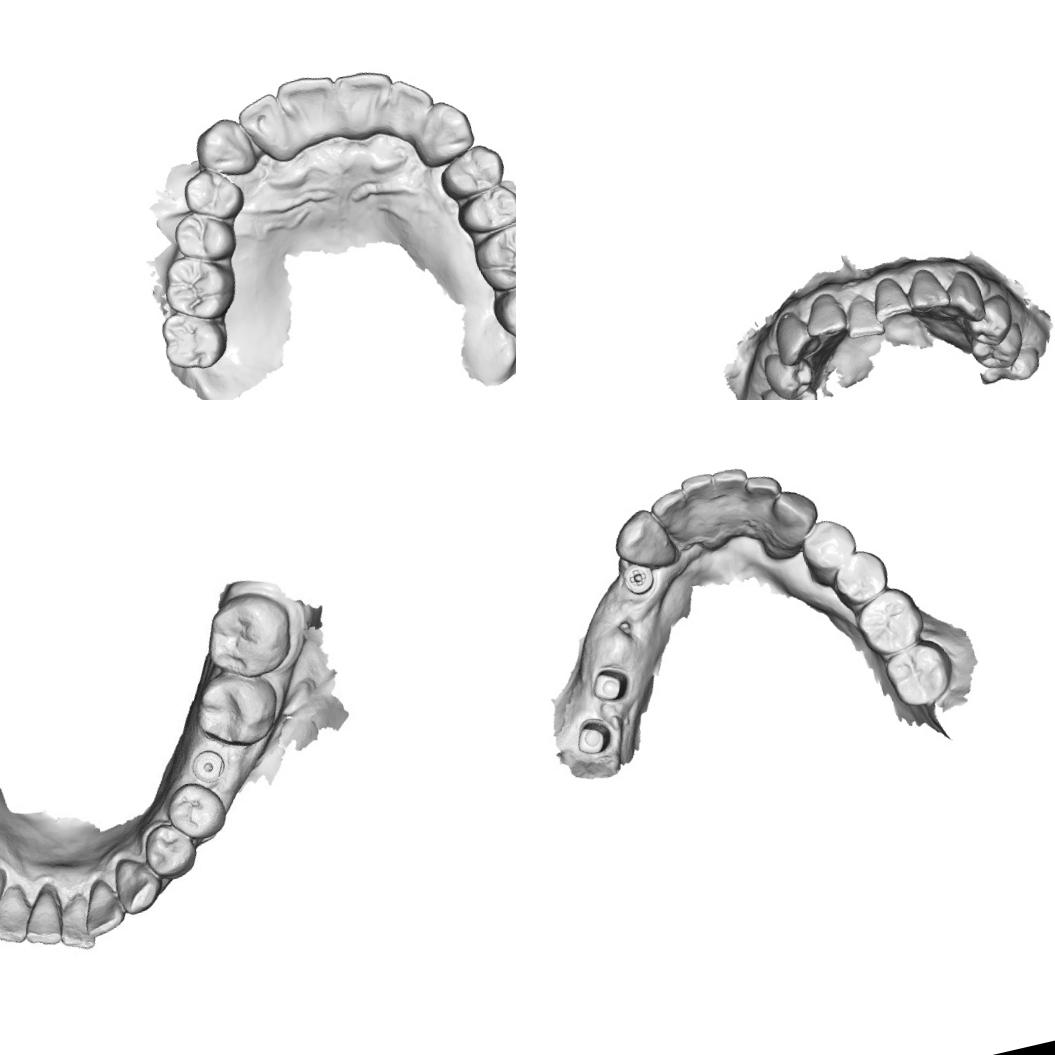abutment: (583, 656, 636, 710), (568, 710, 614, 762)
canine: (606, 500, 684, 581), (404, 94, 480, 171), (189, 113, 261, 185), (764, 484, 826, 549), (108, 850, 166, 919), (767, 306, 826, 368), (933, 266, 988, 329), (0, 861, 15, 931)
implant: (188, 745, 232, 788)
implant_plus: (616, 555, 662, 601)
incisor: (233, 89, 296, 170), (645, 482, 704, 554), (330, 60, 398, 120), (706, 464, 762, 536), (273, 70, 340, 130), (675, 469, 729, 542), (15, 886, 66, 954), (76, 876, 128, 941), (48, 893, 100, 958), (741, 470, 789, 534), (378, 73, 436, 125), (798, 288, 851, 343), (838, 288, 887, 344), (902, 265, 953, 316), (0, 884, 39, 950), (866, 273, 914, 325)
molar: (195, 585, 300, 687), (185, 663, 285, 754), (847, 581, 932, 664), (158, 246, 244, 328), (879, 635, 960, 713), (156, 302, 233, 376), (467, 218, 516, 296), (487, 274, 516, 344)
premolar: (794, 512, 864, 589), (168, 201, 240, 270), (824, 543, 896, 612), (434, 139, 510, 204), (178, 161, 249, 229), (160, 778, 229, 846), (138, 815, 200, 885), (958, 290, 1020, 353), (451, 180, 516, 237), (966, 320, 1029, 375), (758, 345, 819, 400), (757, 377, 823, 400)
